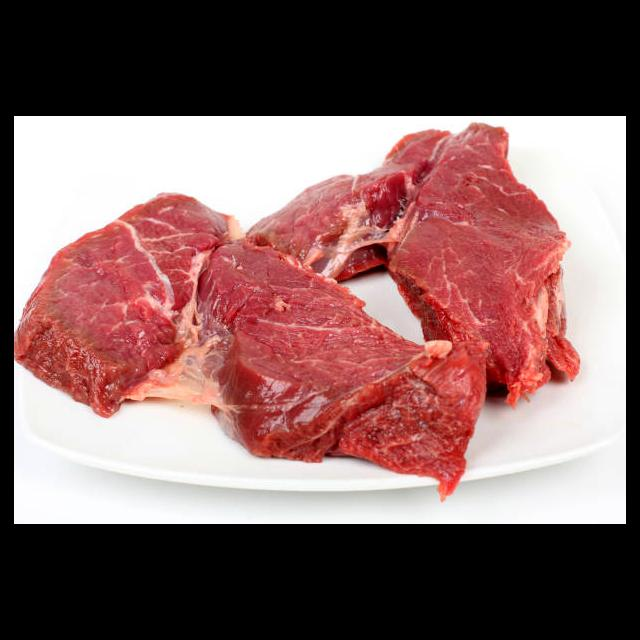beef: (198, 235, 493, 505), (385, 122, 583, 412), (15, 191, 245, 421), (246, 131, 455, 283)
